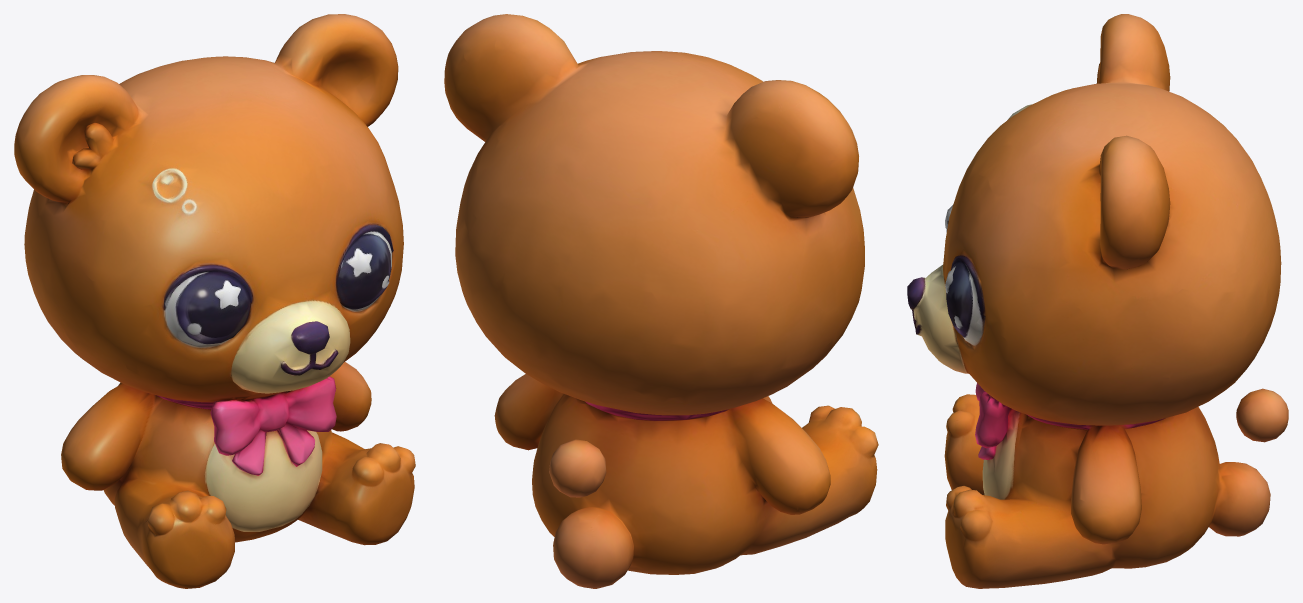
File: cs-teddy.glb
3 views of the same model, side by side, from view 1: azimuth 30°, elevation 25°; view 2: azimuth 150°, elevation 25°; view 3: azimuth 270°, elevation 25° (orthographic). The views are drawn at different scales.
Visible parts, largest first — view 1: tripo_node_4c973fe8-a019-4a58-98d9-d71f38a60d3f; view 2: tripo_node_4c973fe8-a019-4a58-98d9-d71f38a60d3f; view 3: tripo_node_4c973fe8-a019-4a58-98d9-d71f38a60d3f.
Part boxes in pixels (x1,y1,x2,y2): tripo_node_4c973fe8-a019-4a58-98d9-d71f38a60d3f: (14,14,415,588); tripo_node_4c973fe8-a019-4a58-98d9-d71f38a60d3f: (444,14,878,588); tripo_node_4c973fe8-a019-4a58-98d9-d71f38a60d3f: (907,14,1288,588).
Size of the model in its own units: 0.8503 by 1 by 0.7526.
1 material, 1 textured.
